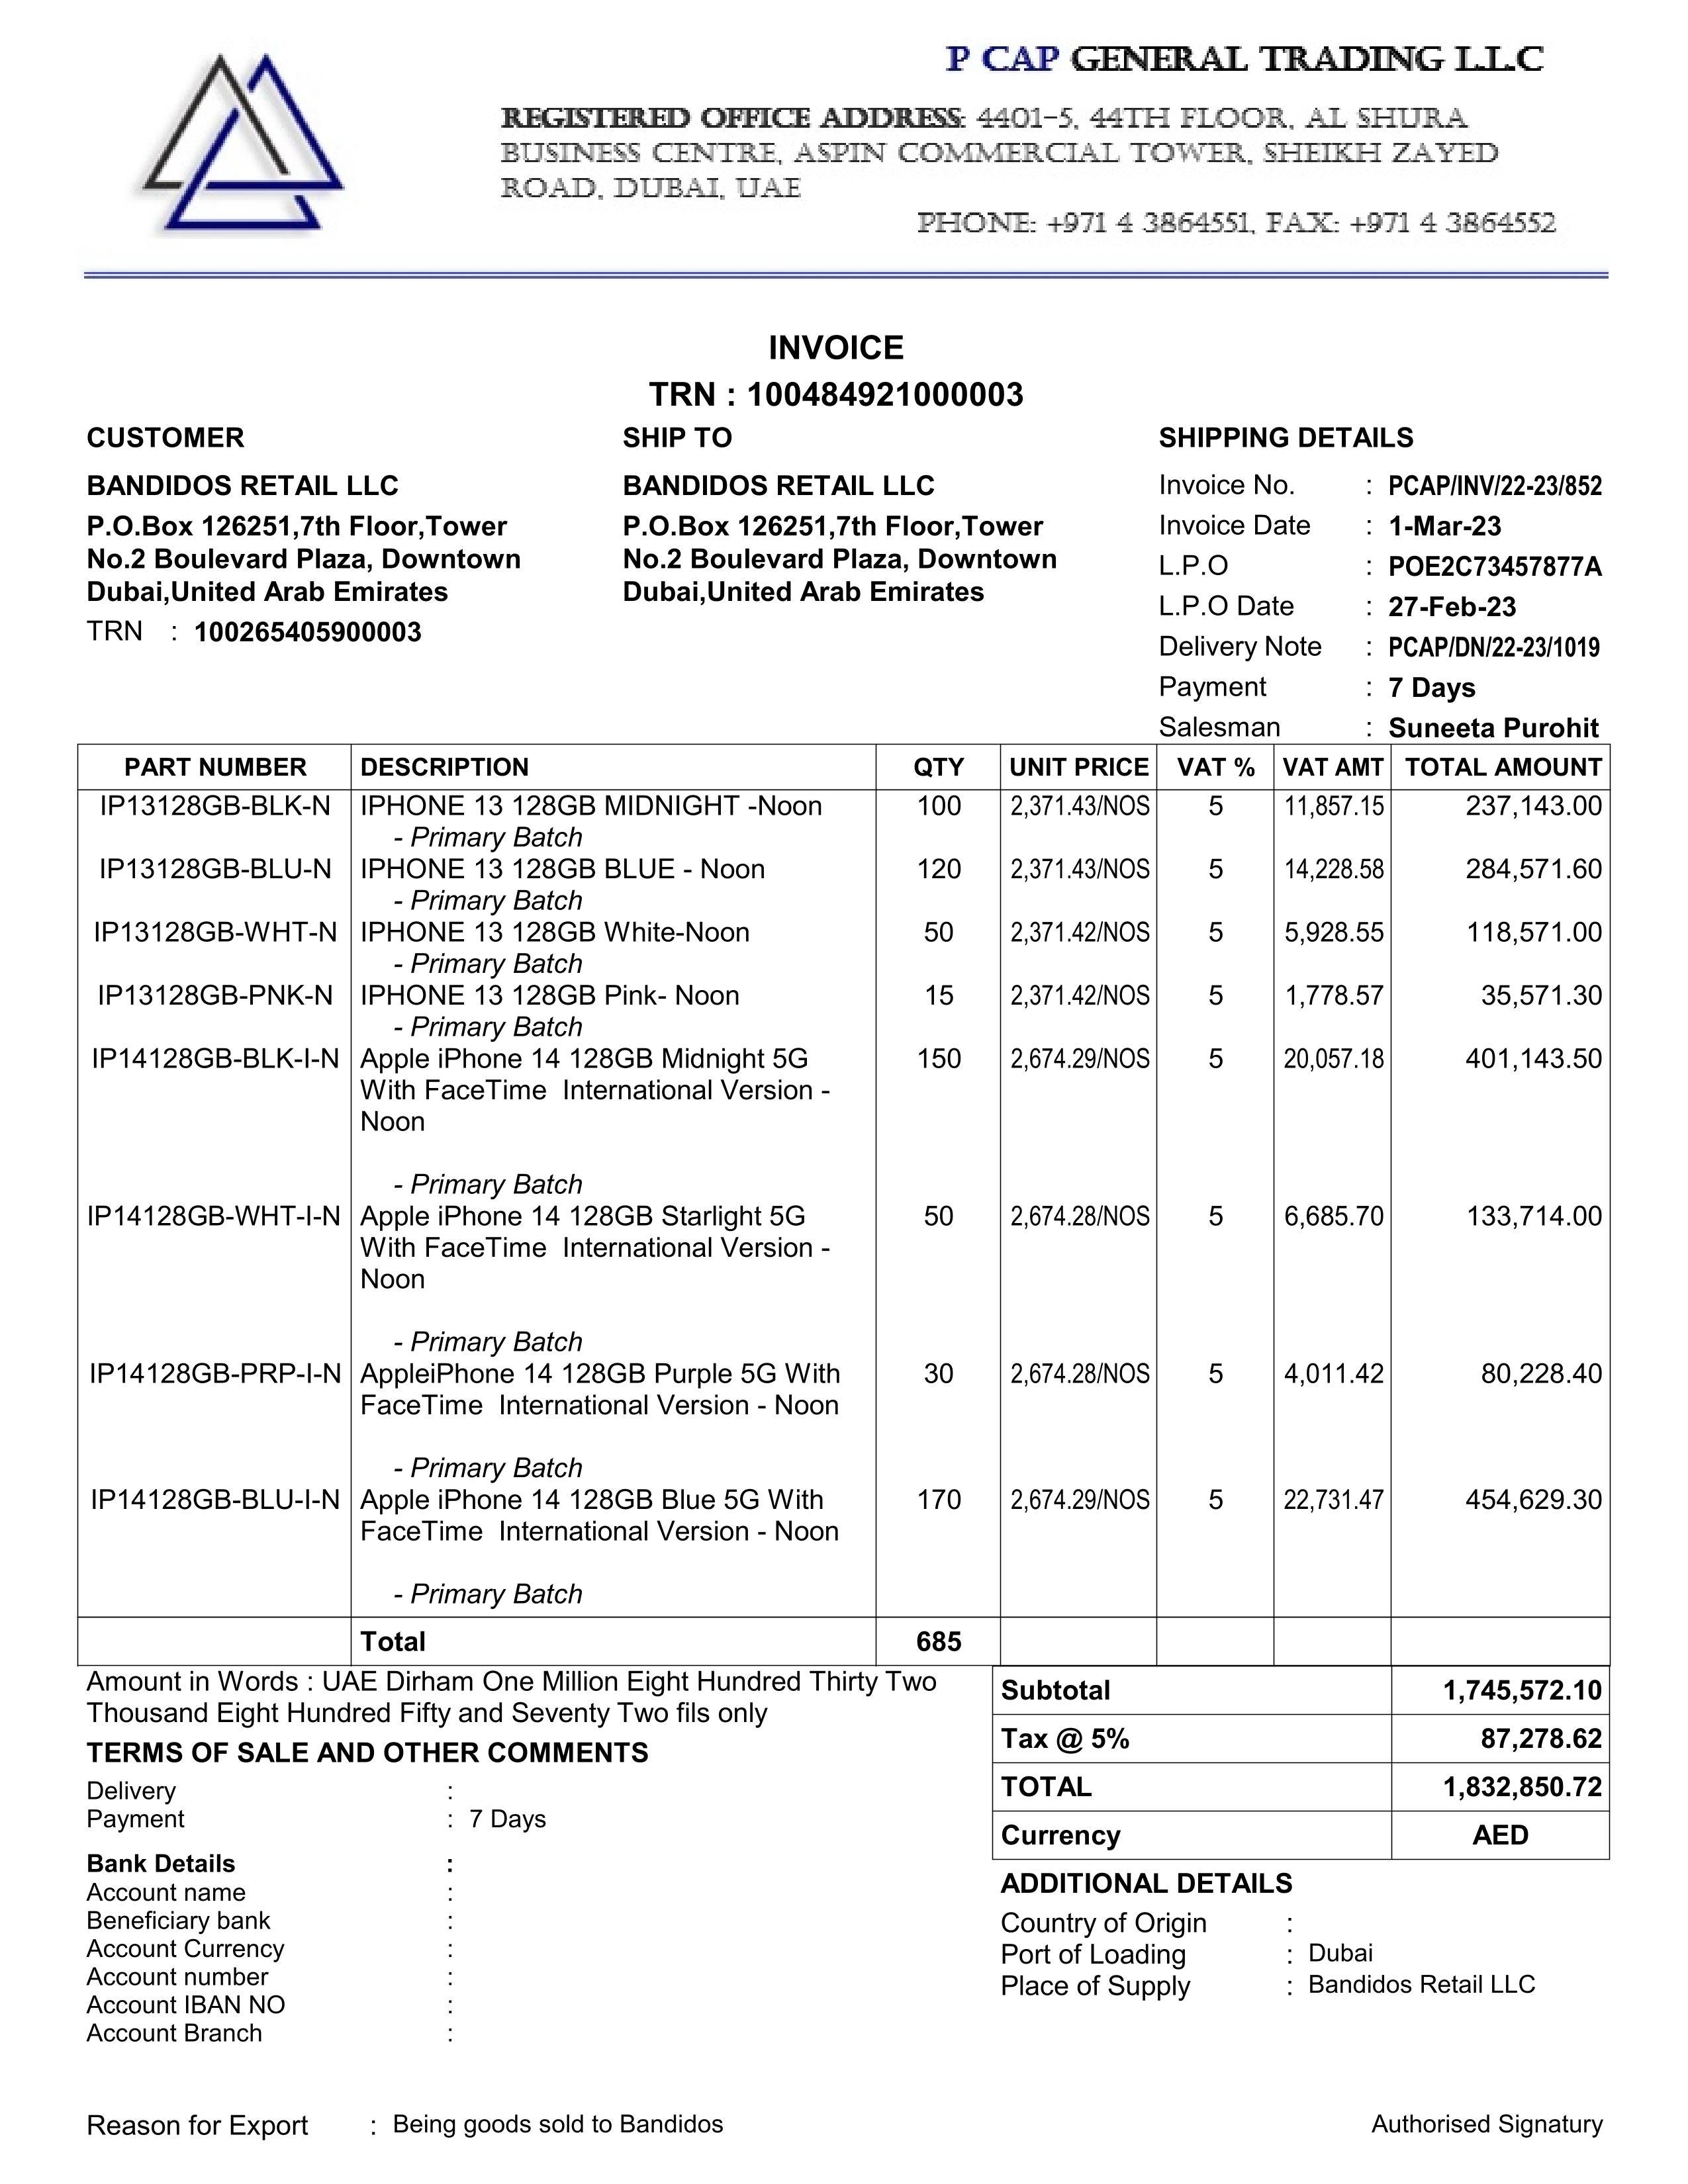InvoiceDate: (1381, 503, 1511, 546)
InvoiceNumber: (1378, 464, 1615, 503)
TotalAmount: (1413, 1764, 1612, 1817)
